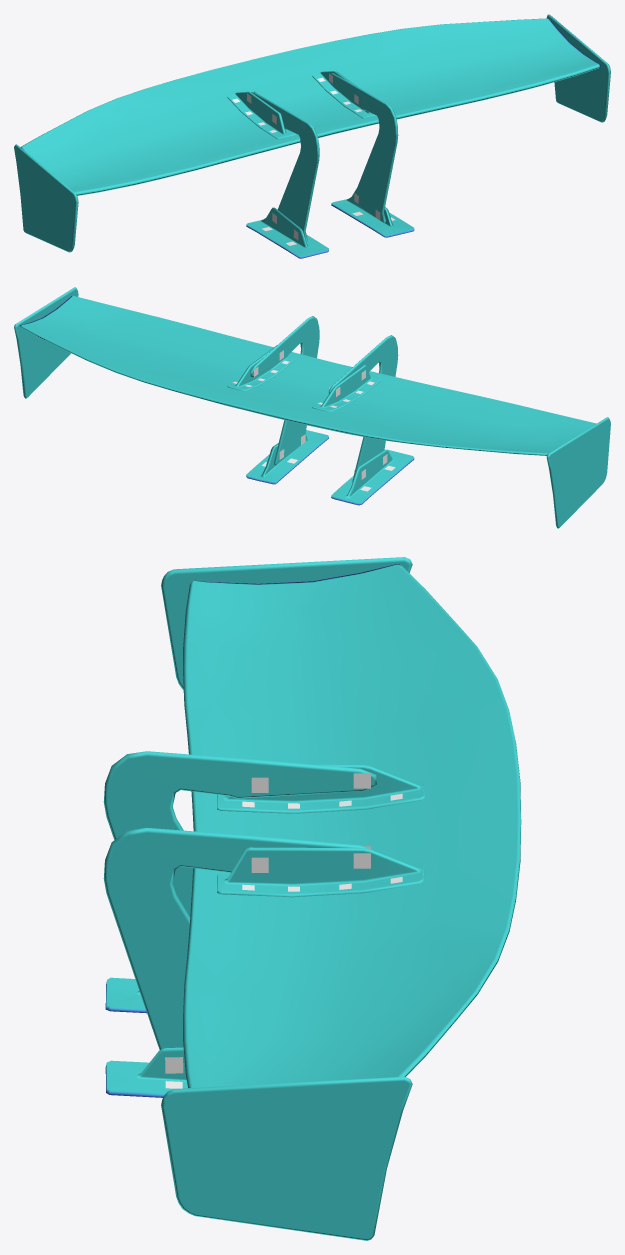
The model's file is Car_Nissan_SkylineGTRVspecR34_1999_Spoiler_SetDE.fbx.
3 views of the same model, one above another, from view 1: azimuth 30°, elevation 25°; view 2: azimuth 150°, elevation 25°; view 3: azimuth 270°, elevation 25° (orthographic). The views are drawn at different scales.
Parts seen in each view (by area): view 1: Spoiler 6; view 2: Spoiler 6; view 3: Spoiler 6.
Boxes of the visible parts, <box> form: Spoiler 6: <box>14,14,610,258</box>; Spoiler 6: <box>14,287,610,528</box>; Spoiler 6: <box>103,557,521,1240</box>.
Bounding box in the file's own units: 1.52 × 0.3578 × 0.5141.
